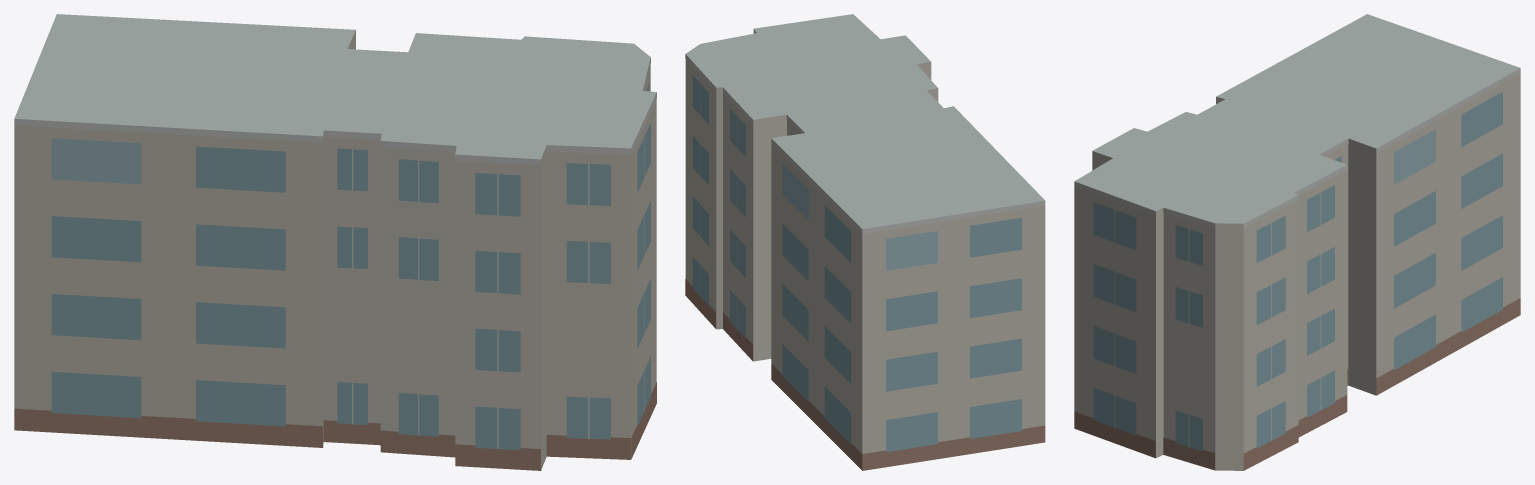
Rendered from survey-upis-33015905.glb.
The picture shows the model from 3 angles, left to right: view 1: azimuth 30°, elevation 25°; view 2: azimuth 150°, elevation 25°; view 3: azimuth 270°, elevation 25°; orthographic projection. The views are drawn at different scales.
Parts seen in each view (by area): view 1: survey-upis-33015905.tmp; view 2: survey-upis-33015905.tmp; view 3: survey-upis-33015905.tmp.
Boxes of the visible parts, box(x1,y1,x2,y2) form: survey-upis-33015905.tmp: box(14, 14, 656, 470); survey-upis-33015905.tmp: box(685, 14, 1045, 470); survey-upis-33015905.tmp: box(1074, 14, 1520, 470).
Size of the model in its own units: 21.49 by 11.8 by 19.32.
